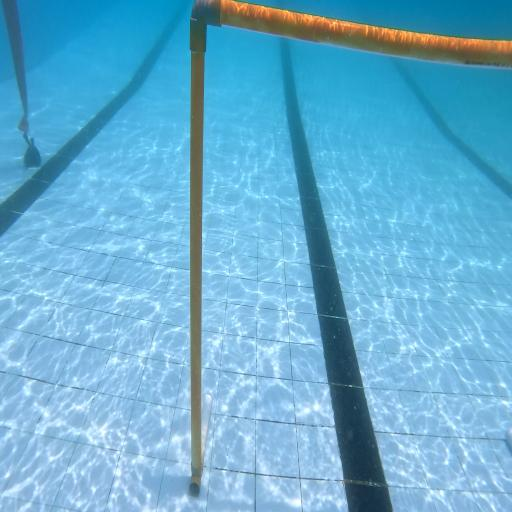gate: (189, 0, 512, 497)
